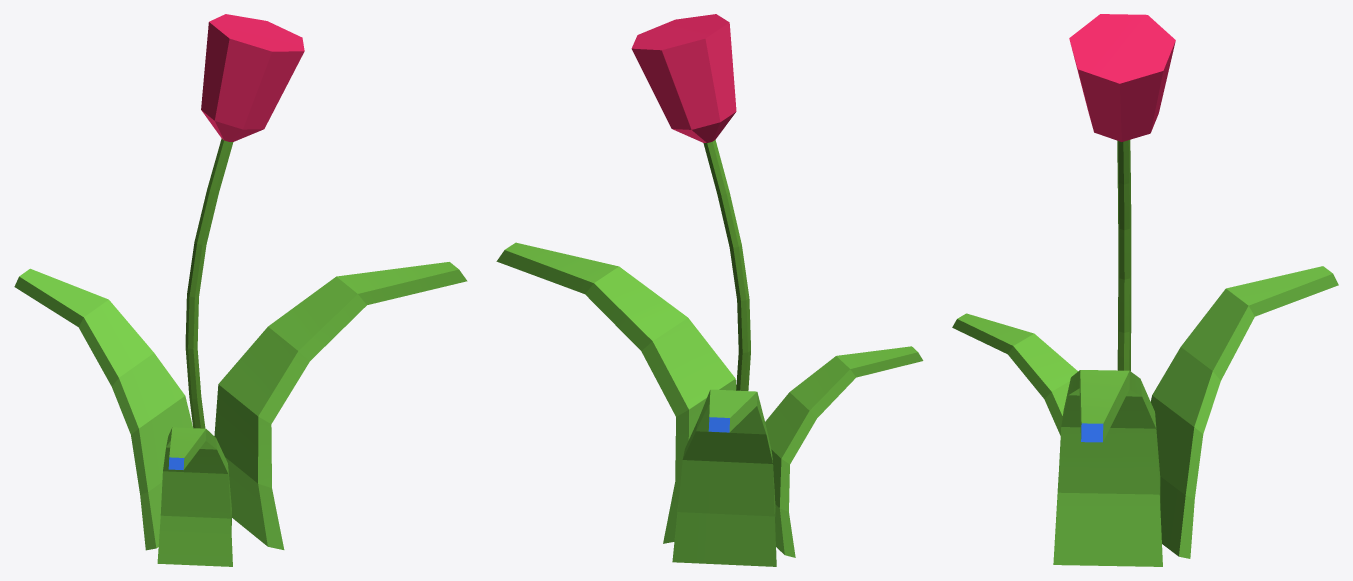
The model's file is Flower_6.fbx.
3 views of the same model, side by side, from view 1: azimuth 30°, elevation 25°; view 2: azimuth 150°, elevation 25°; view 3: azimuth 270°, elevation 25° (orthographic). The views are drawn at different scales.
Visible parts, largest first — view 1: Flower 6; view 2: Flower 6; view 3: Flower 6.
Boxes of the visible parts, x1,y1,x2,y2 form: Flower 6: (14,14,467,566); Flower 6: (496,14,923,566); Flower 6: (952,14,1338,566).
Bounding box in the file's own units: 54.3 × 74.44 × 48.15.
